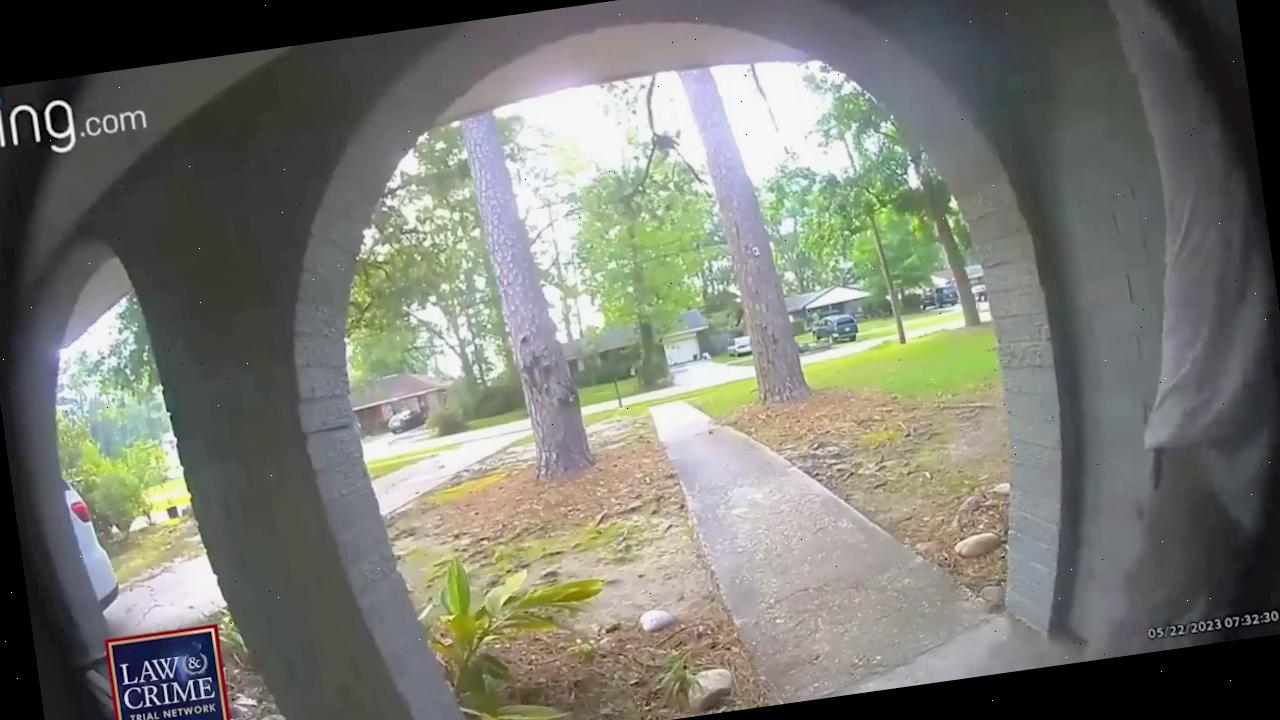suspicion: (964, 0, 1280, 663)
